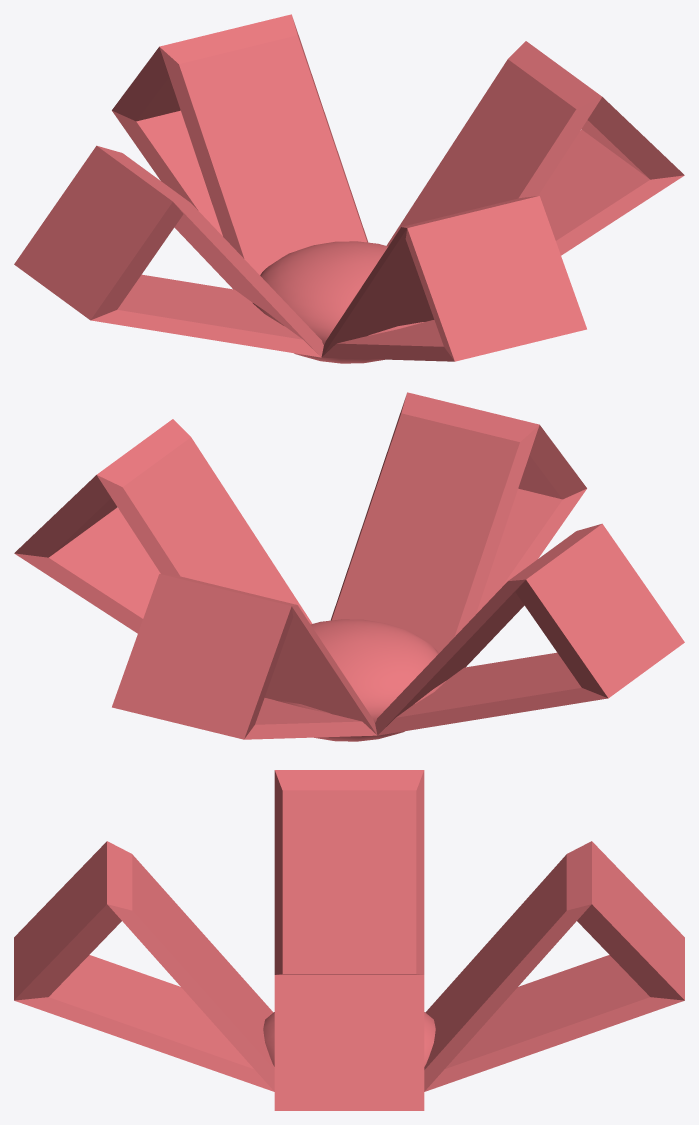
The model's file is bow.fbx.
3 views of the same model, one above another, from view 1: azimuth 30°, elevation 25°; view 2: azimuth 150°, elevation 25°; view 3: azimuth 270°, elevation 25° (orthographic). The views are drawn at different scales.
Visible parts, largest first — view 1: polySurface3, polySurface5, polySurface2, polySurface4, pSphere1; view 2: polySurface2, polySurface5, polySurface3, polySurface4, pSphere1; view 3: polySurface2, polySurface3, polySurface5, polySurface4, pSphere1.
Boxes of the visible parts, x1,y1,x2,y2 form: polySurface3: [112, 14, 368, 275]; polySurface5: [14, 145, 323, 357]; polySurface2: [321, 196, 586, 361]; polySurface4: [386, 41, 684, 255]; pSphere1: [253, 241, 423, 363]; polySurface2: [330, 392, 586, 653]; polySurface5: [375, 523, 684, 735]; polySurface3: [112, 574, 377, 739]; polySurface4: [14, 419, 312, 633]; pSphere1: [275, 619, 445, 741]; polySurface2: [14, 841, 274, 1091]; polySurface3: [424, 841, 684, 1091]; polySurface5: [274, 770, 424, 974]; polySurface4: [274, 974, 424, 1110]; pSphere1: [263, 1012, 435, 1066].
Size of the model in its own units: 0.345 by 0.1251 by 0.345.
